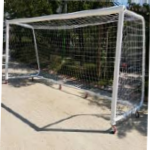goals: (4, 4, 146, 120)
